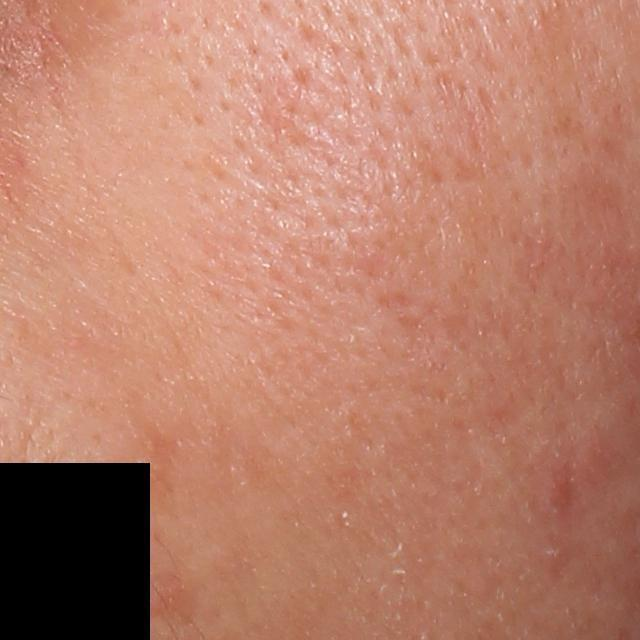papule: (543, 469, 581, 509)
